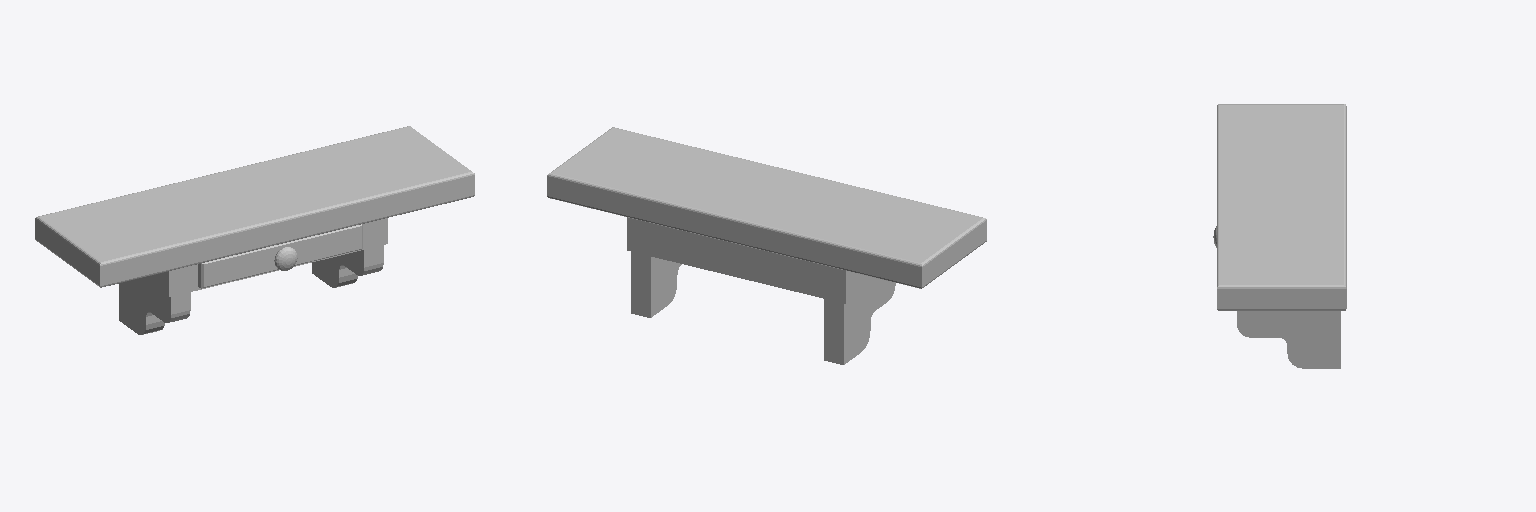
The model's file is Repisa10x1.obj.
3 views of the same model, side by side, from view 1: azimuth 30°, elevation 25°; view 2: azimuth 150°, elevation 25°; view 3: azimuth 270°, elevation 25° (orthographic).
Visible parts, largest first — view 1: Repisa10x1:Respisa10x3 Repisa10x1:Repisa10x1_GRP; view 2: Repisa10x1:Respisa10x3 Repisa10x1:Repisa10x1_GRP; view 3: Repisa10x1:Respisa10x3 Repisa10x1:Repisa10x1_GRP.
Boxes of the visible parts, x1=… form: Repisa10x1:Respisa10x3 Repisa10x1:Repisa10x1_GRP: x1=35, y1=126, x2=474, y2=334; Repisa10x1:Respisa10x3 Repisa10x1:Repisa10x1_GRP: x1=547, y1=127, x2=986, y2=364; Repisa10x1:Respisa10x3 Repisa10x1:Repisa10x1_GRP: x1=1217, y1=104, x2=1346, y2=368.
Bounding box in the file's own units: 10 × 3.12 × 3.08.